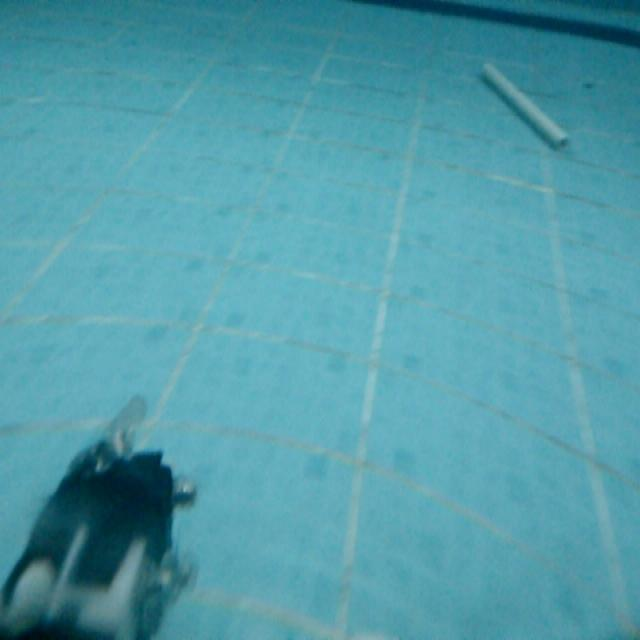Cube: (478, 59, 573, 152)
